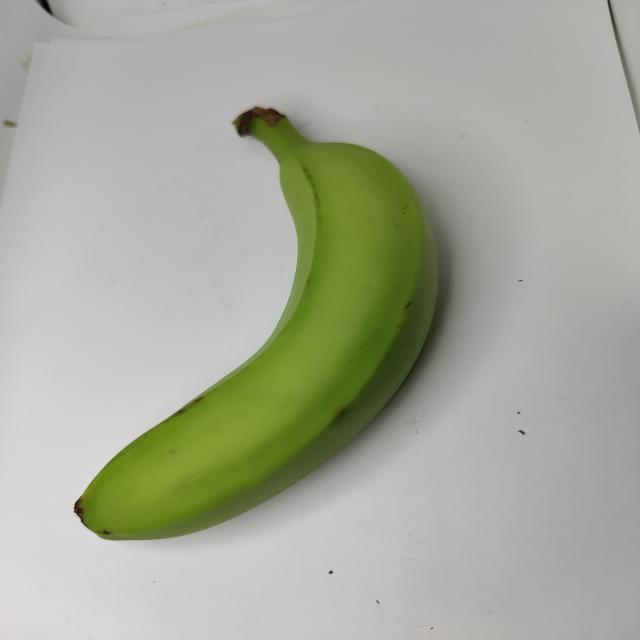raw: (41, 61, 470, 565)
